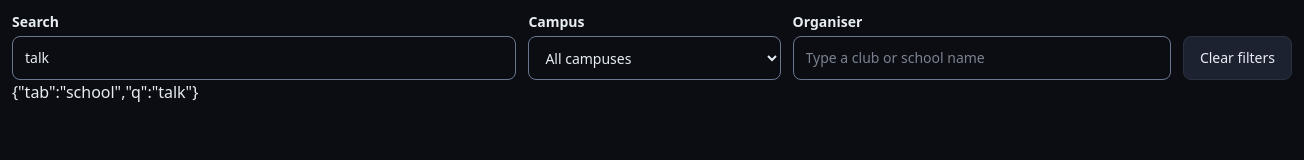
Test: FiltersBar › sets the campus and clears every filter, keeping the tab
Expected: the search field labelled "Search" holds "talk", [12,36,516,80]
Select "Health campus" in the dropdown labelled "Campus": (654, 58) [528,36,781,80]
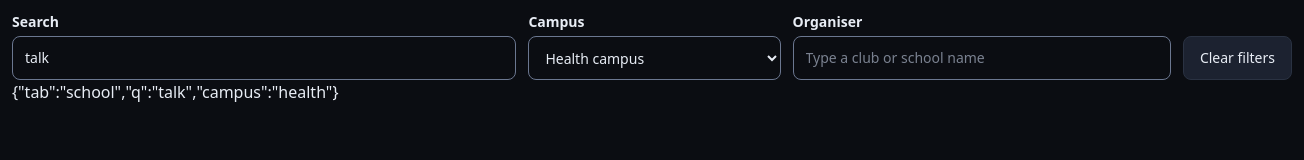
Click the button "Clear filters": (1237, 58) [1183,36,1292,80]
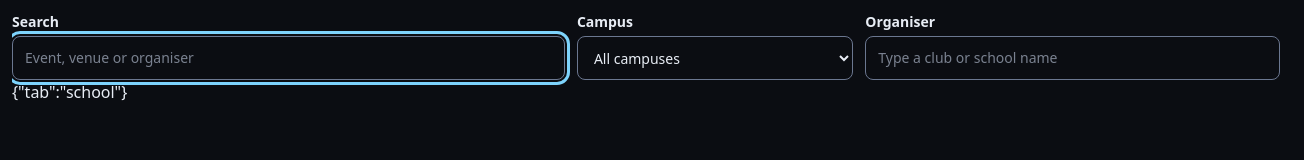
Now the search field labelled "Search" is empty, box [12,36,565,80]
Now the button "Clear filters" is gone
